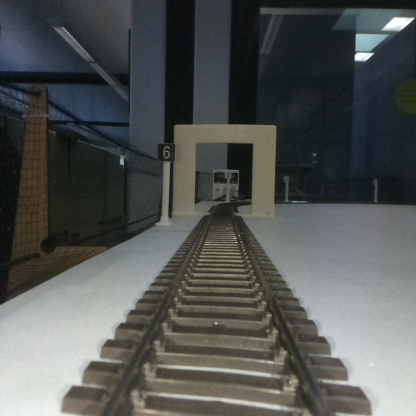black-info-6: (157, 143, 175, 224)
